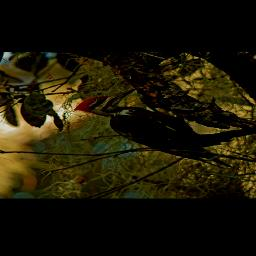Woodpecker: (72, 88, 237, 169)
